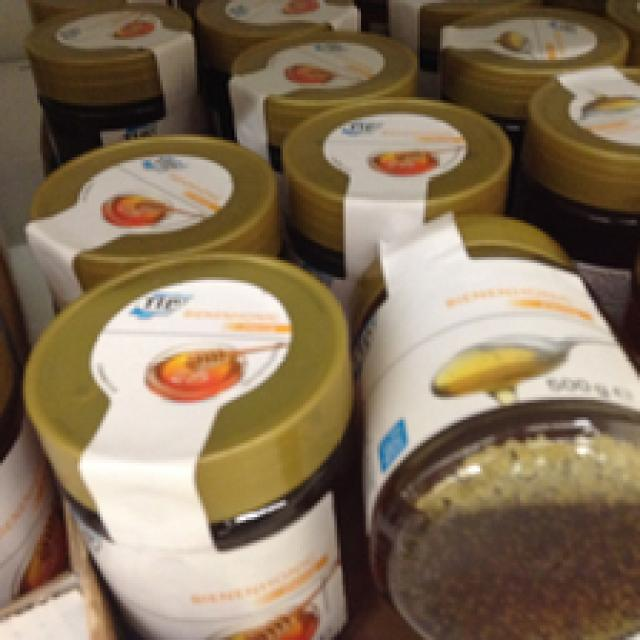groceries: (26, 249, 357, 637), (360, 212, 634, 637)
